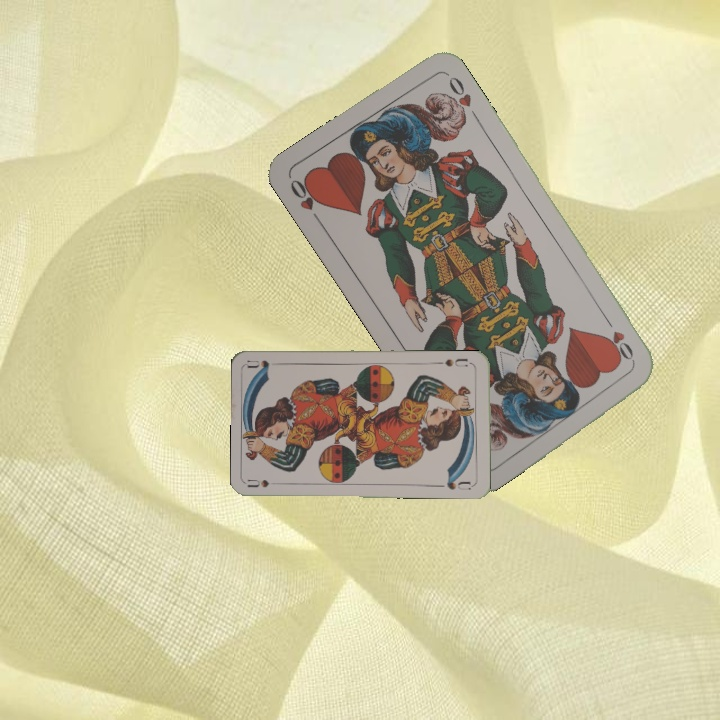HO: (286, 174, 325, 227), (601, 314, 638, 368)
SU: (245, 475, 285, 490), (441, 354, 470, 369)
